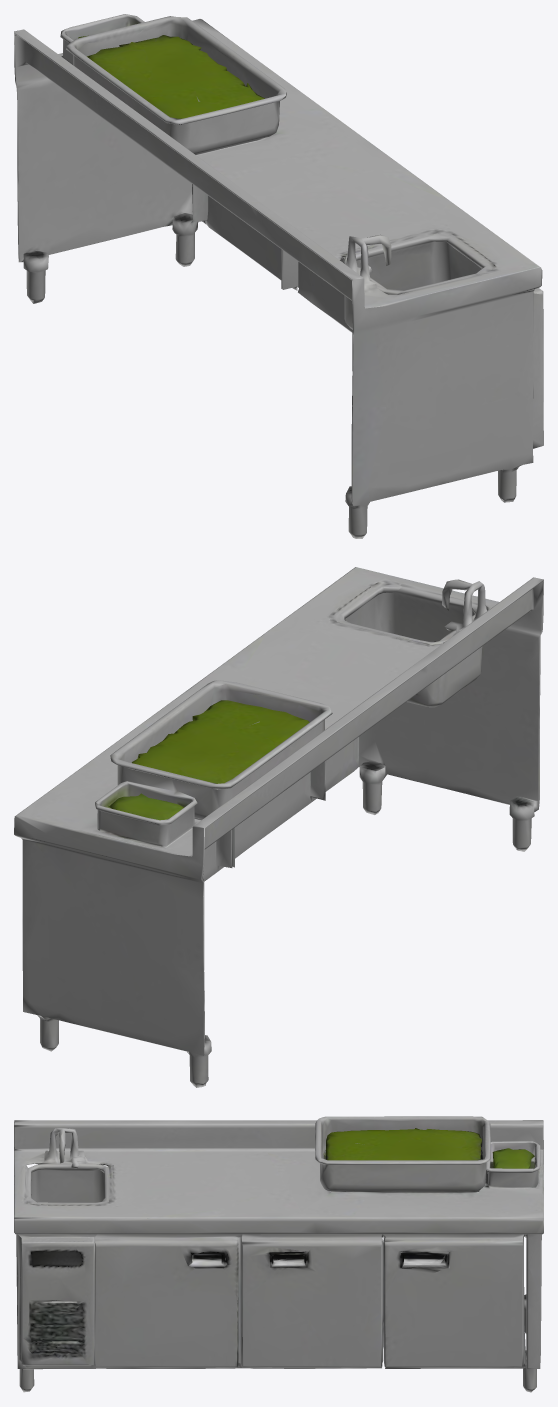
The model's file is negi.glb.
3 views of the same model, one above another, from view 1: azimuth 30°, elevation 25°; view 2: azimuth 150°, elevation 25°; view 3: azimuth 270°, elevation 25° (orthographic). The views are drawn at different scales.
Parts seen in each view (by area): view 1: tripo_node_ca4d3ba5-bd05-4b8e-9efe-100b30d399ca; view 2: tripo_node_ca4d3ba5-bd05-4b8e-9efe-100b30d399ca; view 3: tripo_node_ca4d3ba5-bd05-4b8e-9efe-100b30d399ca.
Part boxes in pixels (x1,y1,x2,y2): tripo_node_ca4d3ba5-bd05-4b8e-9efe-100b30d399ca: [14, 14, 543, 538]; tripo_node_ca4d3ba5-bd05-4b8e-9efe-100b30d399ca: [14, 567, 543, 1087]; tripo_node_ca4d3ba5-bd05-4b8e-9efe-100b30d399ca: [14, 1116, 543, 1392].
Bounding box in the file's own units: 0.336 × 0.4538 × 0.9999.
1 material, 1 textured.
